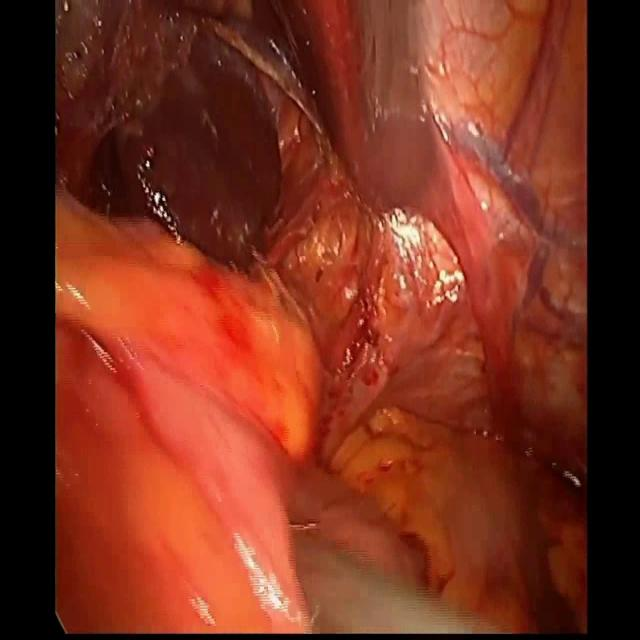surgical-area: (55, 0, 588, 634)
